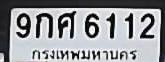1: (124, 12, 132, 38), (106, 12, 114, 38)
2: (139, 12, 154, 38)
6: (84, 12, 98, 37)
9: (15, 12, 30, 37)
A01: (35, 12, 52, 37)
A38: (57, 10, 75, 38)
BKK: (29, 47, 142, 62)
